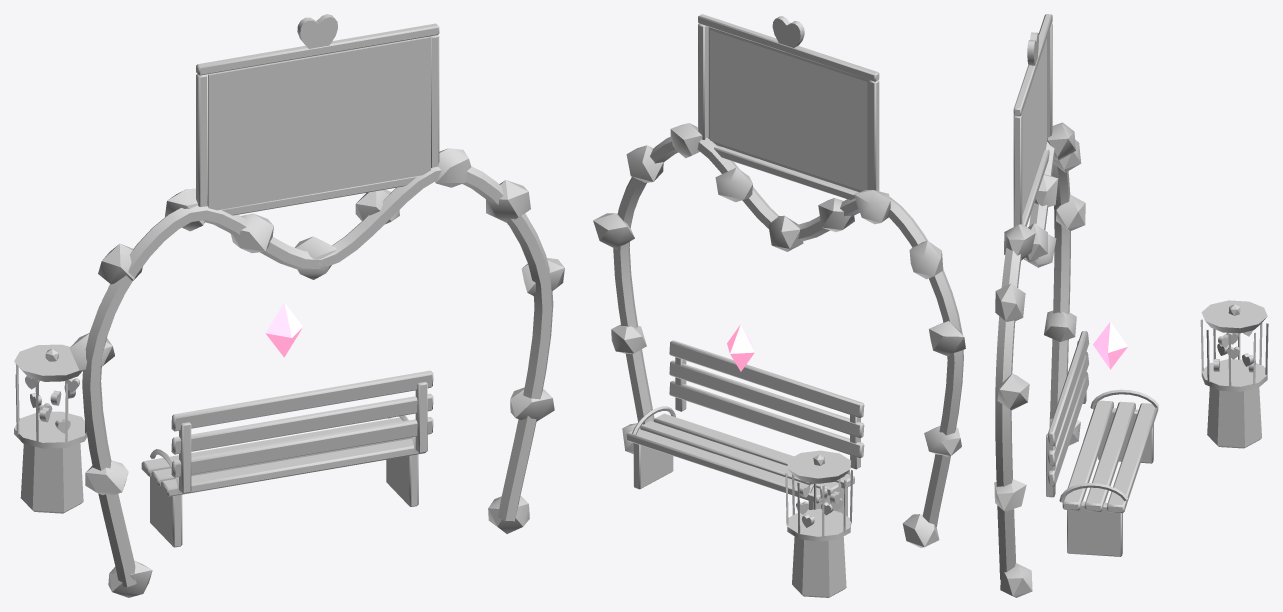
File: zon_diaryring_heart_lite.glb
The picture shows the model from 3 angles, left to right: view 1: azimuth 30°, elevation 25°; view 2: azimuth 150°, elevation 25°; view 3: azimuth 270°, elevation 25°; orthographic projection. The views are drawn at different scales.
Visible parts, largest first — view 1: SM_zon_diaryring_heart_lite_kit_diaryring_heart_xm1_z0, ANIM_bld_heart_lite_marker__0; view 2: SM_zon_diaryring_heart_lite_kit_diaryring_heart_xm1_z0, SCREEN_heart_heart__0, ANIM_bld_heart_lite_marker__0; view 3: SM_zon_diaryring_heart_lite_kit_diaryring_heart_xm1_z0, SCREEN_heart_heart__0, ANIM_bld_heart_lite_marker__0.
Part boxes in pixels (x1,y1,x2,y2): SM_zon_diaryring_heart_lite_kit_diaryring_heart_xm1_z0: (14,14,564,597); ANIM_bld_heart_lite_marker__0: (265,302,302,357); SM_zon_diaryring_heart_lite_kit_diaryring_heart_xm1_z0: (593,14,965,597); SCREEN_heart_heart__0: (710,30,867,190); ANIM_bld_heart_lite_marker__0: (727,324,754,371); SM_zon_diaryring_heart_lite_kit_diaryring_heart_xm1_z0: (994,14,1268,597); SCREEN_heart_heart__0: (1021,39,1046,215); ANIM_bld_heart_lite_marker__0: (1093,321,1127,369).
Size of the model in its own units: 4.15 by 4.79 by 2.46.
